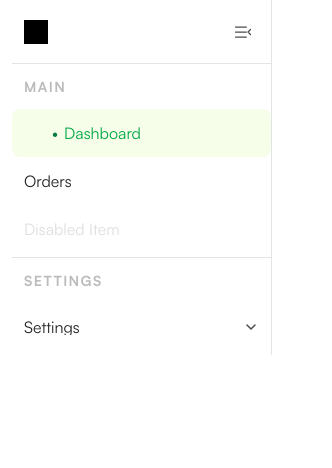
Test: SideNavigation — sub-item expand/collapse (edge case 4) › toggles aria-expanded when parent item is clicked
What coordinates should you click on to do the following:
click the button "Settings"
I would click on:
 (142, 327)
Its box is [12,303,271,351].
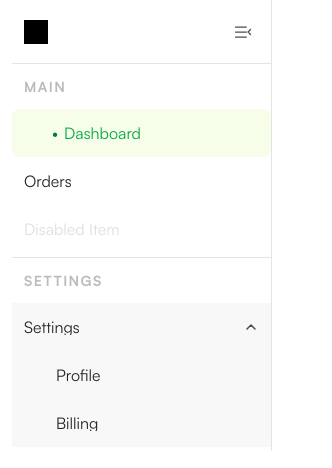
Expected: the button "Settings" is expanded, [12,303,271,351]
